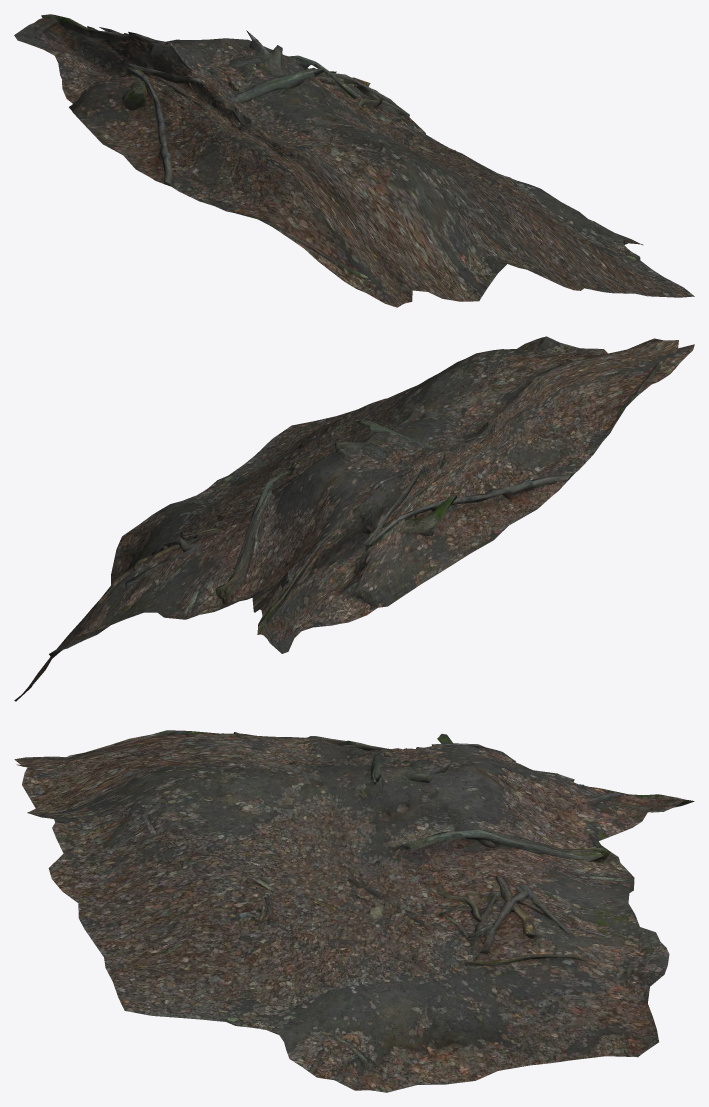
File: eagle-ground-v1.glb
3 views of the same model, one above another, from view 1: azimuth 30°, elevation 25°; view 2: azimuth 150°, elevation 25°; view 3: azimuth 270°, elevation 25° (orthographic). The views are drawn at different scales.
Parts seen in each view (by area): view 1: Forest Ground Leaves; view 2: Forest Ground Leaves; view 3: Forest Ground Leaves.
Boxes of the visible parts, left/top/right/bottom form: Forest Ground Leaves: left=14, top=14, right=694, bottom=307; Forest Ground Leaves: left=14, top=336, right=694, bottom=701; Forest Ground Leaves: left=14, top=730, right=694, bottom=1092.
Bounding box in the file's own units: 2.19 × 1.15 × 3.27.
Materials: 1 (1 with a texture image).
